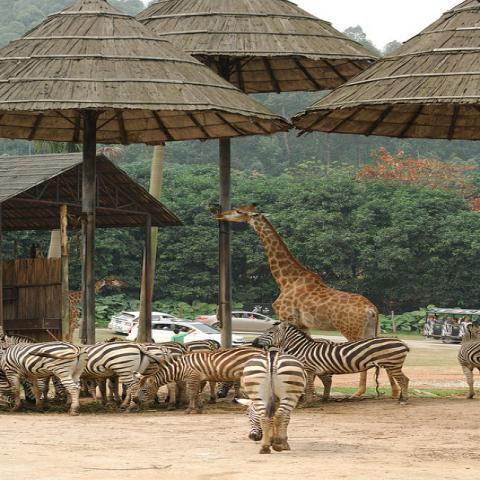car: (127, 318, 245, 347), (194, 310, 280, 332), (106, 310, 175, 336)
